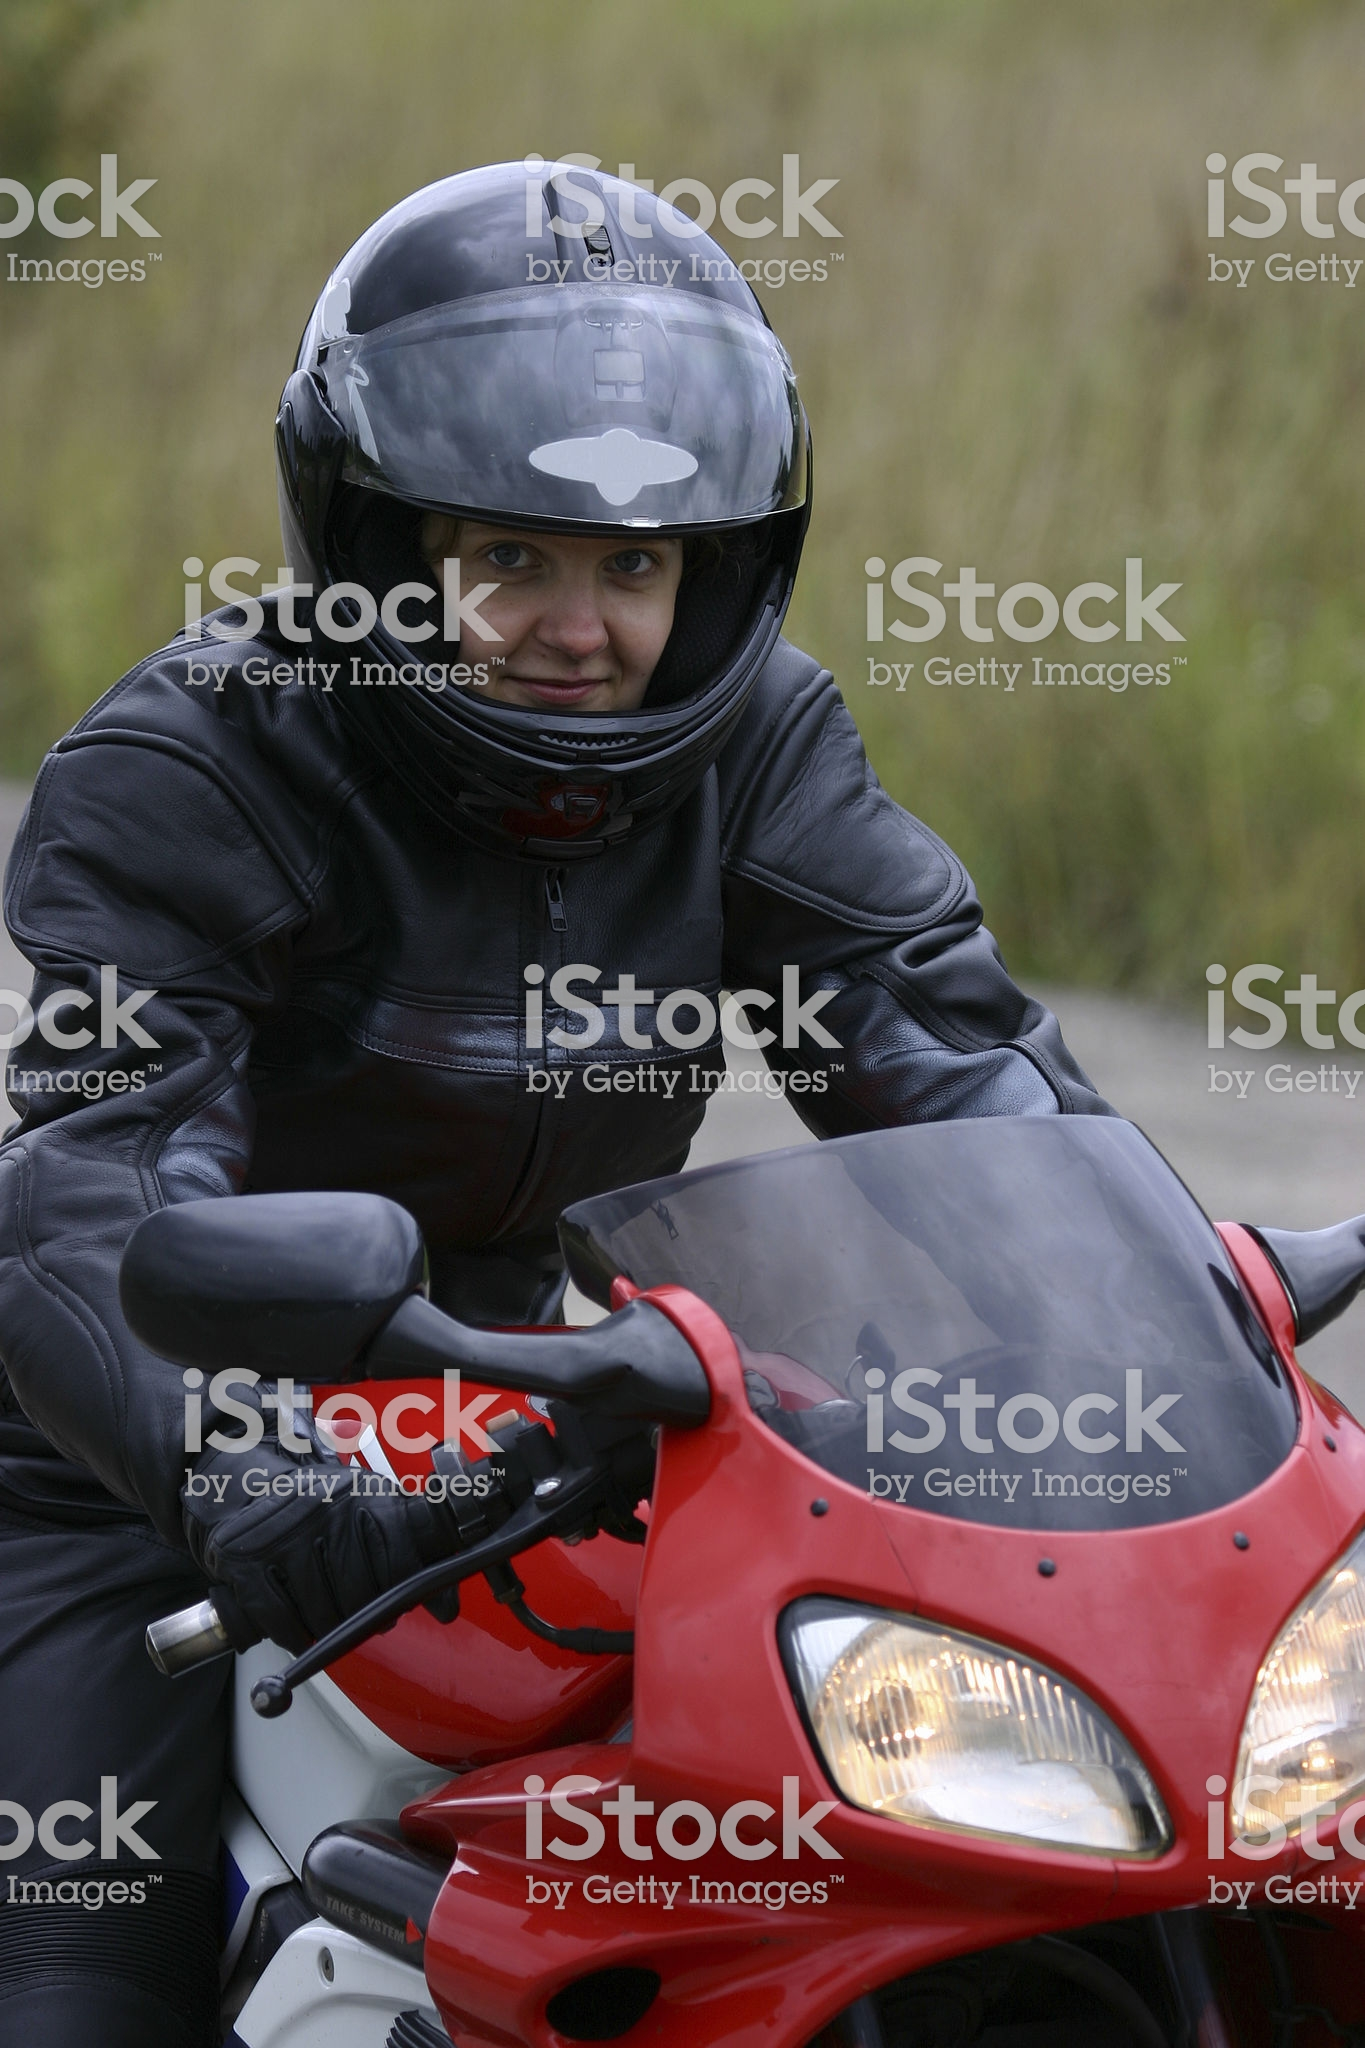helmet: (264, 193, 870, 751)
